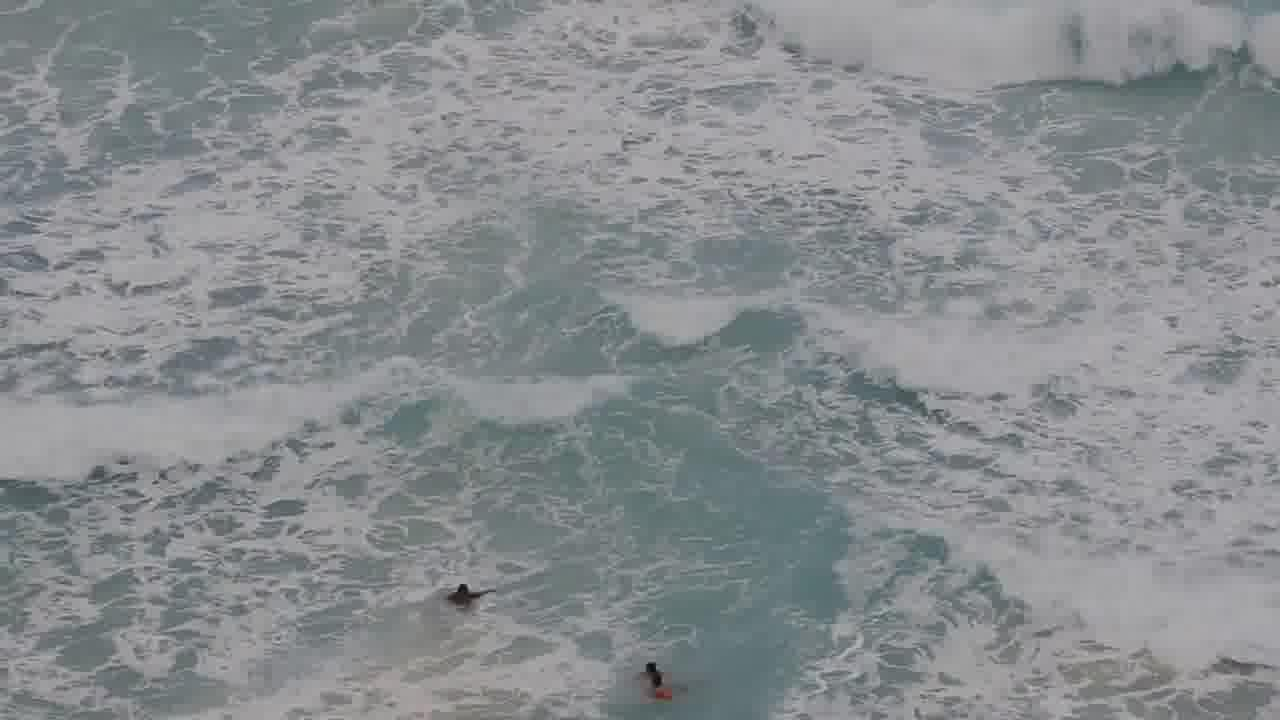swimmer: (438, 570, 498, 611), (641, 670, 687, 702), (630, 652, 679, 680)
